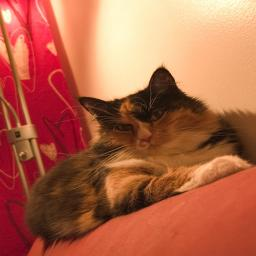catnose: (138, 135, 153, 144)
